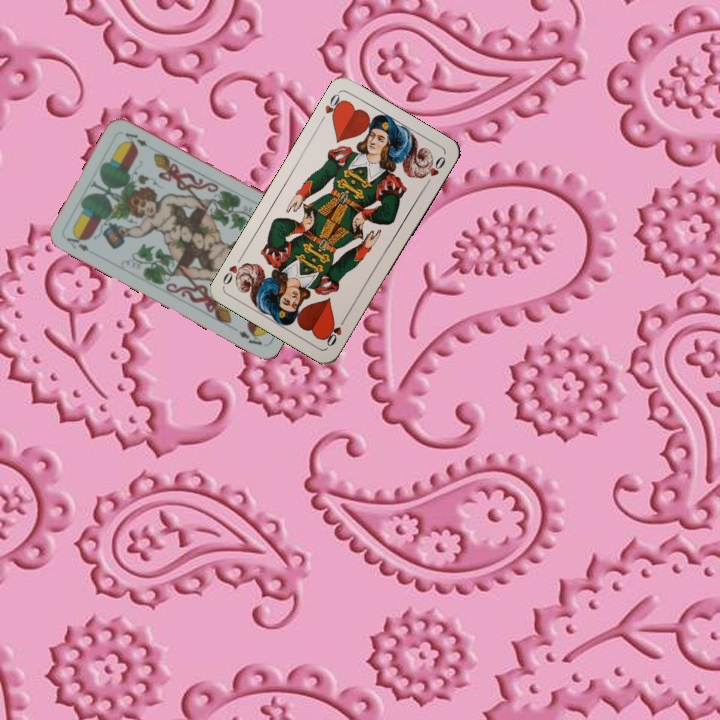EA: (62, 230, 91, 254)
HO: (322, 313, 349, 349), (321, 88, 347, 123)
